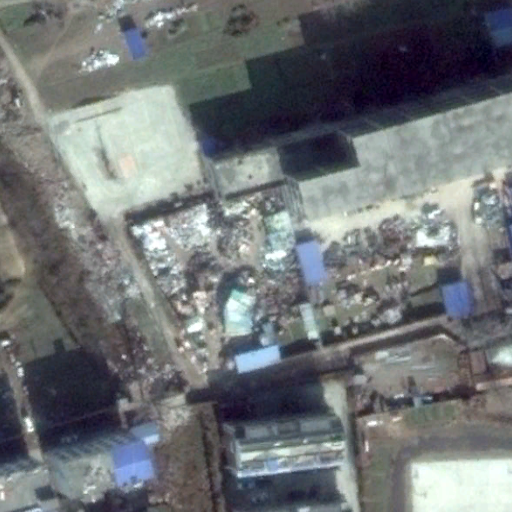msw: (129, 186, 307, 333)
